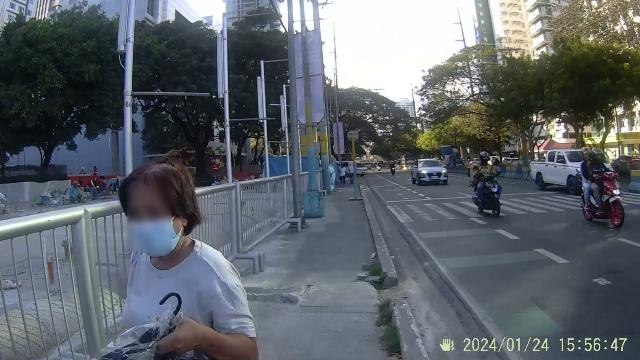car: (412, 155, 451, 187)
motorcycle: (580, 168, 626, 228)
